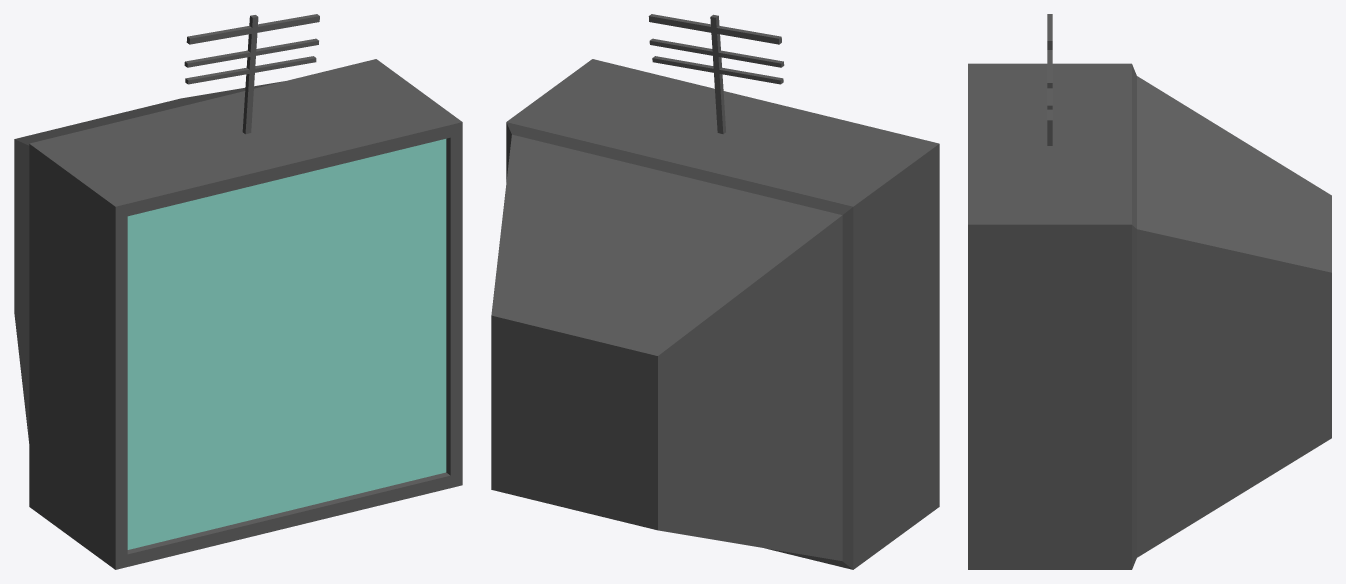
3 renders of one model, left to right at view 1: azimuth 30°, elevation 25°; view 2: azimuth 150°, elevation 25°; view 3: azimuth 270°, elevation 25°, orthographic. The views are drawn at different scales.
Visible parts, largest first — view 1: Tv, Antenne; view 2: Tv, Antenne; view 3: Tv, Antenne.
Boxes of the visible parts, box(x1,y1,x2,y2) form: Tv: box(14, 59, 462, 569); Antenne: box(184, 14, 319, 134); Tv: box(491, 59, 939, 569); Antenne: box(648, 14, 784, 134); Tv: box(968, 63, 1331, 569); Antenne: box(1047, 14, 1052, 145).
Size of the model in its own units: 187 by 245 by 178.
